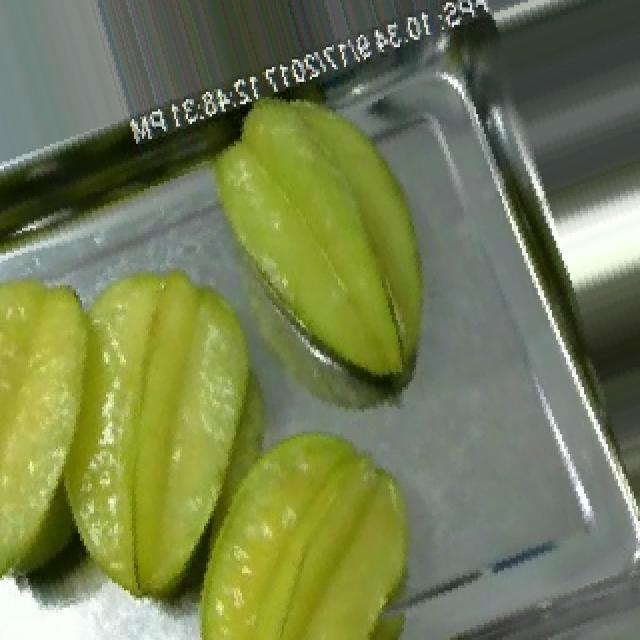fruit: (16, 236, 328, 620), (186, 62, 480, 417), (158, 392, 476, 640)
